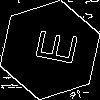E: (25, 25, 78, 67)
